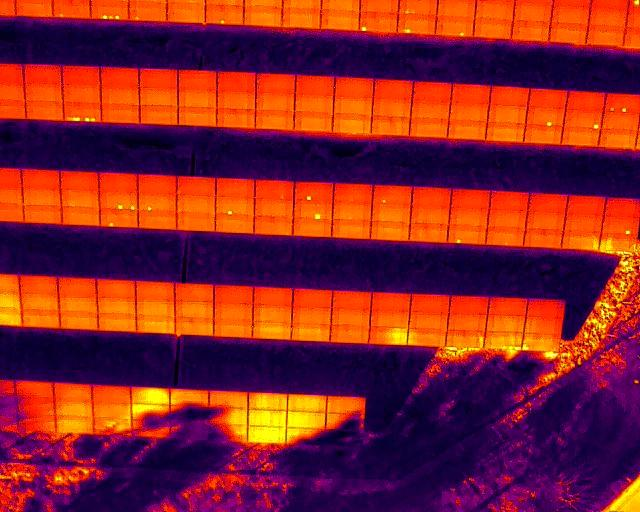Cell: (447, 224, 487, 245), (437, 15, 475, 37), (396, 13, 434, 34), (357, 11, 396, 31), (293, 183, 333, 202), (206, 4, 243, 24), (526, 107, 566, 125), (374, 185, 410, 205), (564, 111, 603, 129), (215, 197, 254, 215), (294, 200, 331, 218), (129, 3, 168, 20), (603, 216, 638, 234), (256, 181, 293, 198), (100, 211, 137, 227), (53, 2, 92, 17), (139, 195, 175, 211)
Cell-Multi: (99, 191, 140, 210), (603, 94, 639, 113), (64, 103, 102, 121), (89, 3, 128, 19), (485, 332, 521, 349)
No-Anomaly: (585, 23, 626, 45), (489, 85, 530, 107), (242, 5, 283, 26), (214, 317, 254, 338), (451, 83, 491, 104), (320, 9, 360, 30), (407, 118, 451, 137), (410, 99, 451, 119), (485, 123, 528, 142), (588, 4, 628, 24), (61, 65, 101, 85), (139, 69, 179, 89), (332, 114, 371, 134), (174, 316, 213, 336), (176, 106, 217, 125), (282, 7, 320, 27), (449, 102, 489, 121), (488, 105, 528, 124), (23, 102, 63, 121), (215, 177, 255, 196), (333, 184, 371, 204), (293, 288, 333, 307), (410, 293, 450, 312), (413, 82, 453, 101), (295, 75, 335, 94), (62, 83, 102, 102), (551, 3, 590, 22), (333, 96, 372, 115), (139, 105, 178, 124), (252, 320, 291, 339), (251, 287, 292, 305), (57, 294, 98, 312), (179, 70, 217, 89), (548, 23, 586, 42), (101, 67, 139, 86), (292, 218, 330, 237), (332, 220, 370, 239), (372, 221, 410, 240), (412, 188, 450, 207), (293, 113, 333, 131), (253, 110, 293, 128), (136, 281, 176, 299), (178, 176, 214, 196), (21, 188, 61, 206), (450, 190, 490, 208), (528, 194, 568, 212), (369, 118, 411, 135), (473, 19, 510, 38), (490, 191, 527, 210), (372, 98, 411, 116), (217, 108, 256, 126), (100, 104, 139, 122), (489, 298, 528, 316), (527, 298, 566, 316), (217, 72, 256, 90), (98, 172, 137, 190), (138, 175, 177, 193), (101, 86, 140, 104), (256, 74, 295, 92), (563, 213, 602, 231), (24, 84, 63, 102), (166, 4, 204, 22), (448, 120, 486, 138), (450, 296, 488, 314), (524, 315, 562, 333), (61, 207, 99, 225), (568, 196, 606, 214), (20, 293, 58, 311), (487, 210, 525, 228), (487, 228, 525, 246), (174, 300, 214, 317), (294, 96, 334, 113), (23, 65, 63, 82), (332, 203, 372, 220), (23, 205, 60, 223), (138, 211, 175, 229), (374, 80, 411, 98), (529, 90, 566, 108), (512, 21, 549, 39), (136, 315, 175, 332), (486, 315, 525, 332), (256, 93, 295, 110), (330, 326, 369, 343), (214, 216, 253, 233), (139, 88, 178, 105), (254, 217, 293, 234), (524, 212, 563, 229), (334, 79, 373, 96), (93, 386, 131, 403), (170, 388, 208, 405), (55, 383, 93, 400), (408, 311, 446, 328), (22, 170, 60, 187), (475, 0, 513, 17), (407, 328, 445, 345), (331, 309, 369, 326), (19, 275, 57, 292), (410, 224, 448, 241), (97, 278, 135, 295), (178, 90, 216, 107), (288, 395, 328, 411), (20, 312, 60, 328), (216, 91, 256, 107), (371, 293, 411, 309), (527, 230, 562, 248), (370, 310, 407, 327), (514, 3, 551, 20), (600, 113, 637, 130), (255, 200, 292, 217), (213, 286, 250, 303), (130, 387, 169, 403), (248, 393, 287, 409), (562, 129, 601, 145), (368, 326, 407, 342), (410, 207, 449, 223), (177, 197, 216, 213), (58, 277, 97, 293), (252, 306, 293, 321), (61, 170, 97, 187), (62, 189, 98, 206), (598, 131, 636, 147), (525, 127, 563, 143), (16, 0, 54, 16), (292, 325, 330, 341), (135, 299, 175, 314), (247, 410, 287, 425), (570, 92, 603, 110), (606, 197, 639, 215), (327, 396, 364, 412), (288, 412, 325, 428), (372, 205, 409, 221), (175, 284, 212, 300), (214, 303, 253, 318), (247, 426, 286, 441), (294, 308, 330, 324), (93, 402, 129, 418), (562, 230, 598, 246), (334, 292, 370, 308), (55, 401, 93, 416), (209, 392, 247, 407), (97, 297, 135, 312), (450, 209, 488, 224), (99, 314, 136, 329), (448, 315, 485, 330), (177, 215, 213, 230), (59, 313, 97, 327), (58, 417, 91, 433), (438, 0, 475, 14)
Shadowing: (286, 425, 326, 445), (208, 408, 248, 426), (16, 381, 55, 399), (170, 421, 210, 438), (131, 403, 171, 420), (210, 423, 247, 441), (326, 412, 363, 430), (131, 420, 170, 437), (93, 418, 132, 435), (169, 405, 208, 422), (17, 399, 54, 415), (20, 416, 56, 430)
Unclassified: (445, 330, 484, 348), (522, 332, 560, 350)
